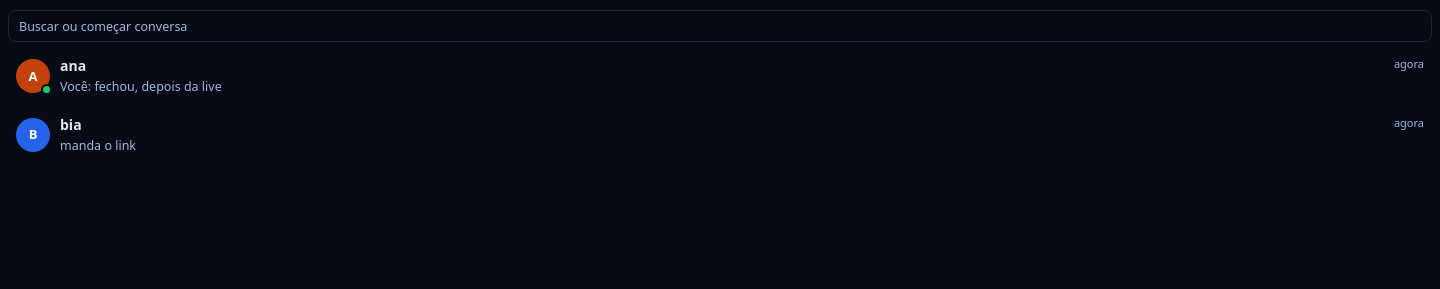
a janela da conversa › clicar numa conversa abre a janela, com o histórico, o aviso e o campo com o foco
Later steps or results of the test are not shown.
Click the button "A ana agora Você: fechou, depois da live": click(33, 76) [8,48,1432,105]
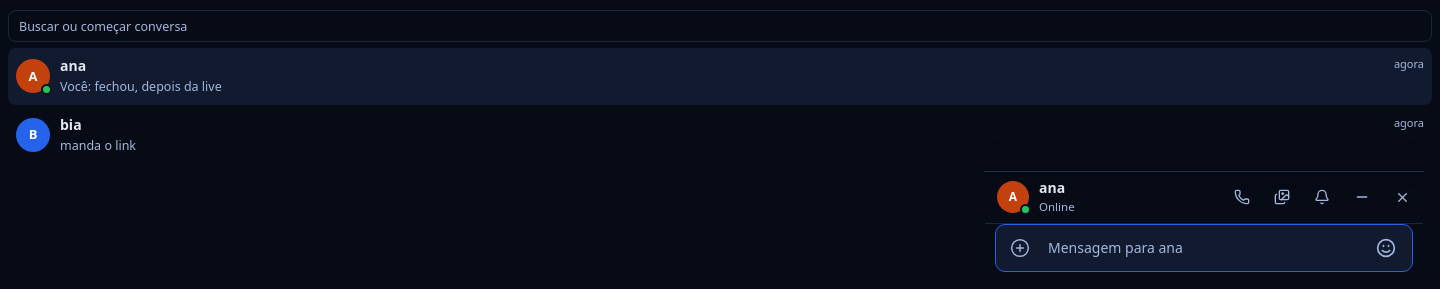
Result: the text "Online" is shown at [1039,199,1075,214]
